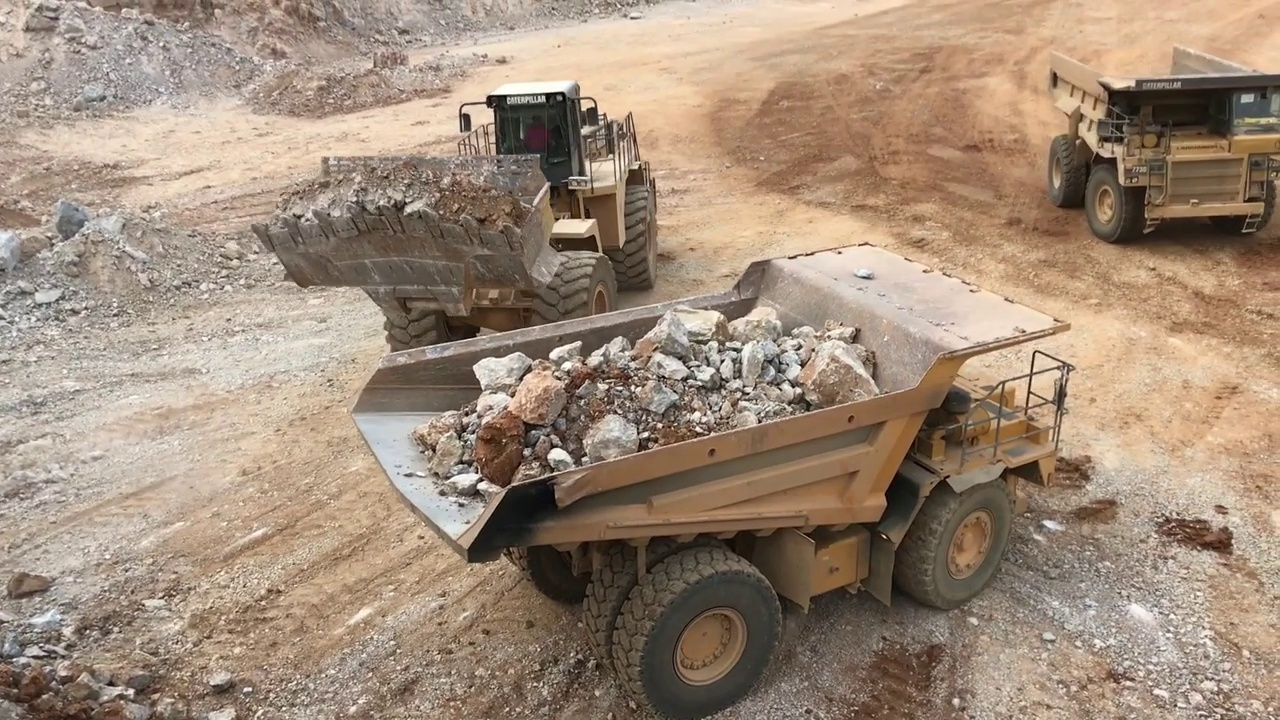dumper: (347, 238, 1078, 720), (1044, 42, 1280, 246)
wheel loader: (249, 80, 663, 362)
